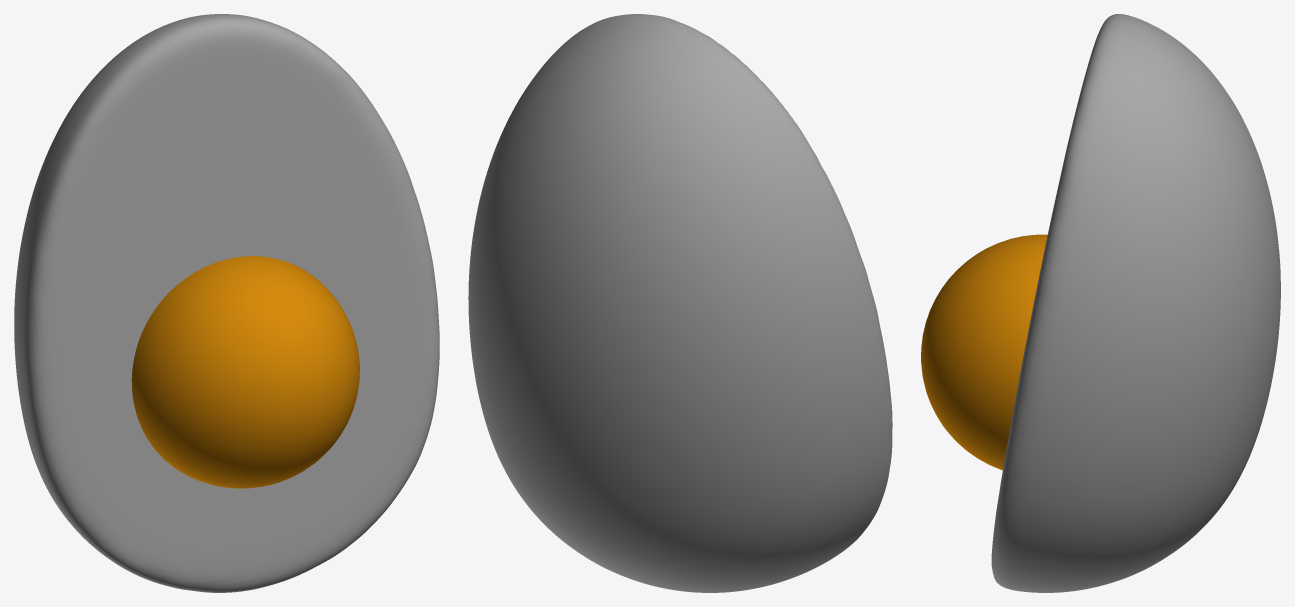
File: Egg.glb
The picture shows the model from 3 angles, left to right: view 1: azimuth 30°, elevation 25°; view 2: azimuth 150°, elevation 25°; view 3: azimuth 270°, elevation 25°; orthographic projection. The views are drawn at different scales.
Visible parts, largest first — view 1: egg.006 Remeshed, hulf egg; view 2: egg.006 Remeshed; view 3: egg.006 Remeshed, hulf egg.
Part boxes in pixels (<box>): egg.006 Remeshed: <box>14,14,439,592</box>; hulf egg: <box>131,256,359,488</box>; egg.006 Remeshed: <box>468,14,892,592</box>; egg.006 Remeshed: <box>991,14,1280,592</box>; hulf egg: <box>921,234,1047,470</box>.
Bounding box in the file's own units: 0.8926 × 1.21 × 0.7191.
